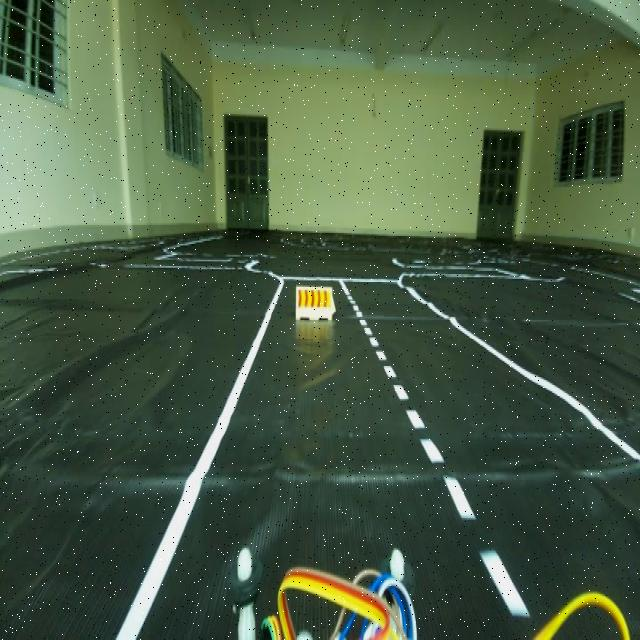roadblock: (291, 280, 339, 322)
